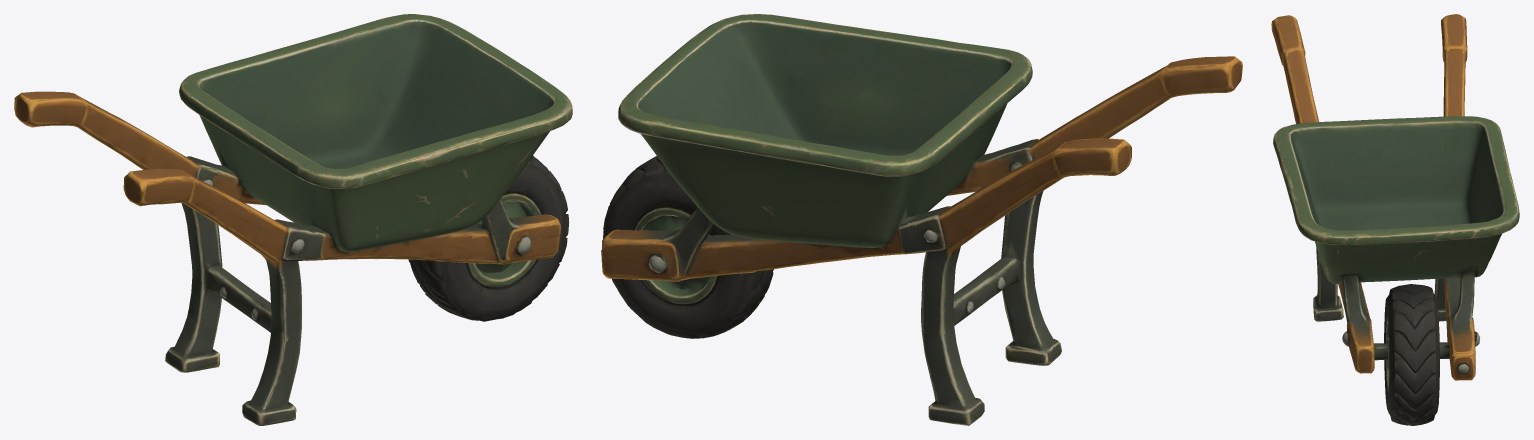
Rendered from carretilla.glb.
3 views of the same model, side by side, from view 1: azimuth 30°, elevation 25°; view 2: azimuth 150°, elevation 25°; view 3: azimuth 270°, elevation 25° (orthographic). The views are drawn at different scales.
Visible parts, largest first — view 1: tripo_node_9f012c75-b7ea-47e5-8c6a-81ea764951e8; view 2: tripo_node_9f012c75-b7ea-47e5-8c6a-81ea764951e8; view 3: tripo_node_9f012c75-b7ea-47e5-8c6a-81ea764951e8.
Boxes of the visible parts, box(x1,y1,x2,y2) form: tripo_node_9f012c75-b7ea-47e5-8c6a-81ea764951e8: box(14, 14, 572, 425); tripo_node_9f012c75-b7ea-47e5-8c6a-81ea764951e8: box(601, 14, 1242, 425); tripo_node_9f012c75-b7ea-47e5-8c6a-81ea764951e8: box(1271, 14, 1519, 425).
Size of the model in its own units: 1 by 0.5688 by 0.5361.
1 material, 1 textured.
